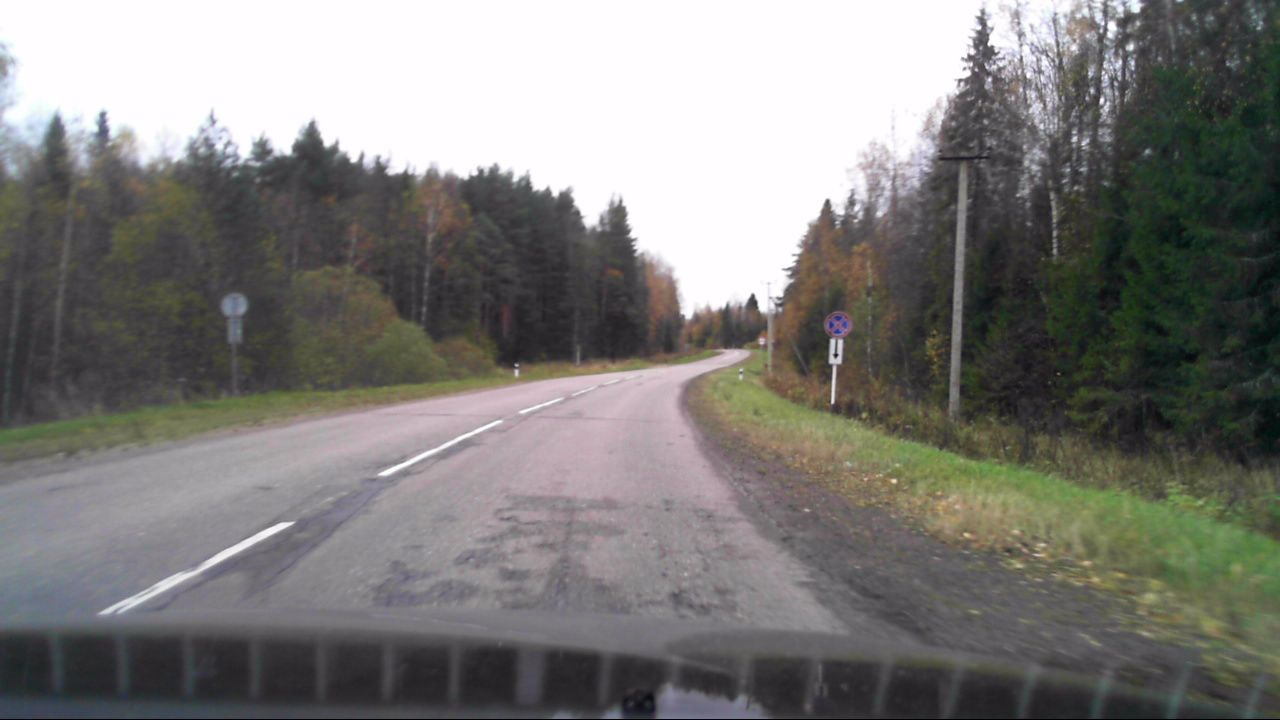No Parking: (823, 310, 851, 338)
